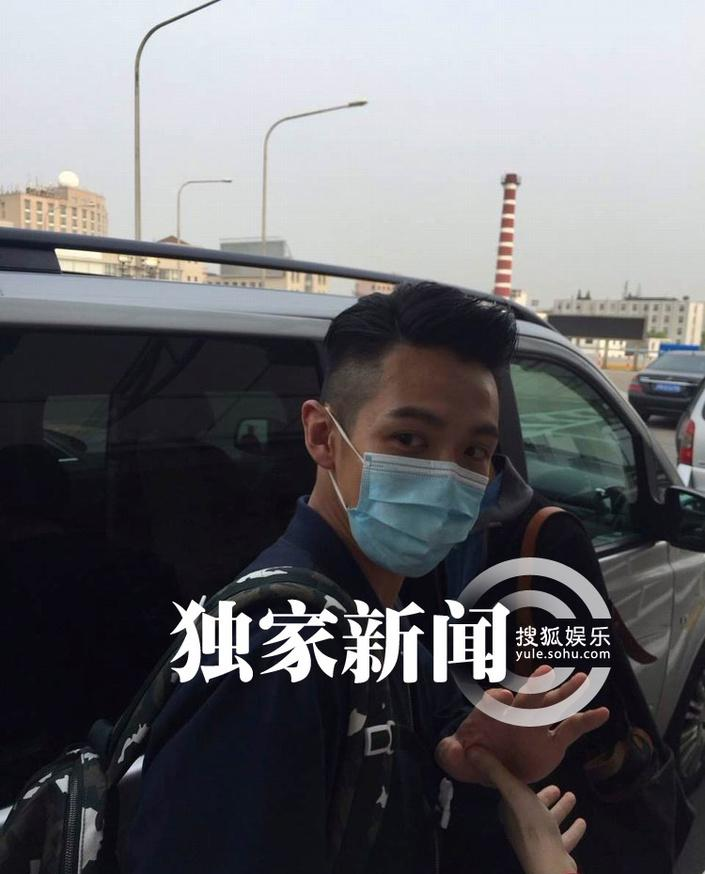face_mask: (341, 353, 499, 576)
